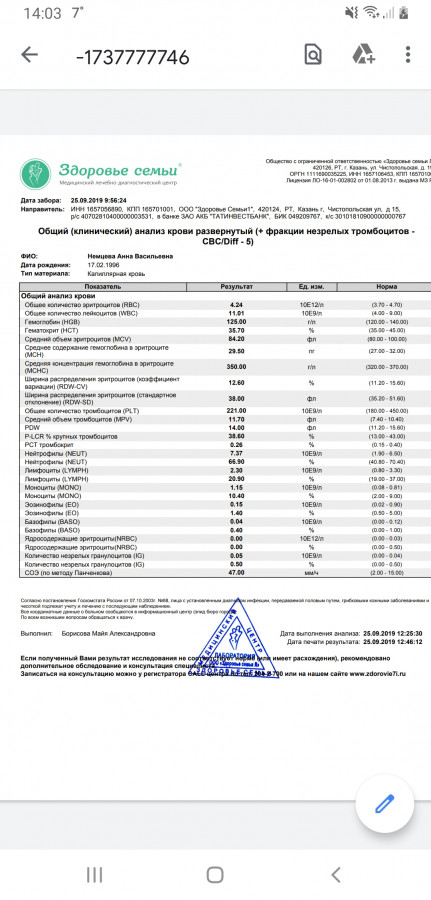column: (20, 282, 180, 577), (365, 282, 408, 577), (220, 282, 253, 577), (298, 282, 324, 577)
